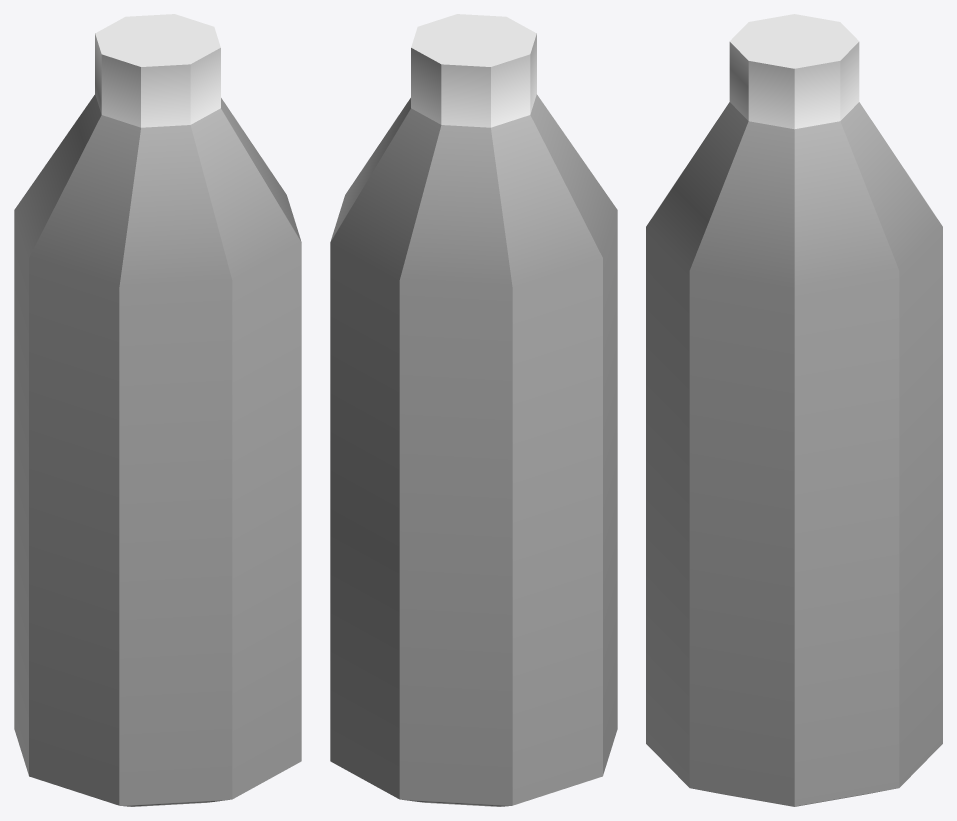
File: WaterBottle.fbx
3 views of the same model, side by side, from view 1: azimuth 30°, elevation 25°; view 2: azimuth 150°, elevation 25°; view 3: azimuth 270°, elevation 25° (orthographic).
Parts seen in each view (by area): view 1: Bottle; view 2: Bottle; view 3: Bottle.
Part boxes in pixels (x1,y1,x2,y2): Bottle: [14, 14, 301, 806]; Bottle: [330, 14, 617, 806]; Bottle: [646, 14, 942, 806].
Bounding box in the file's own units: 2.6 × 7 × 2.6.
